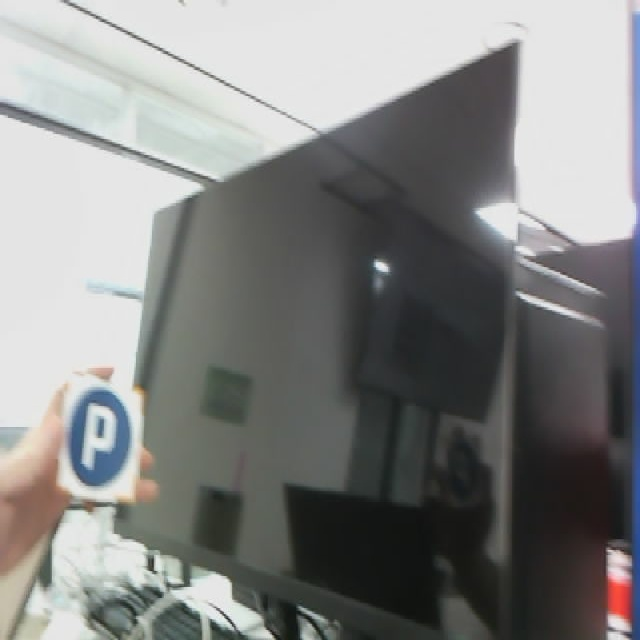parking: (53, 369, 149, 507)
